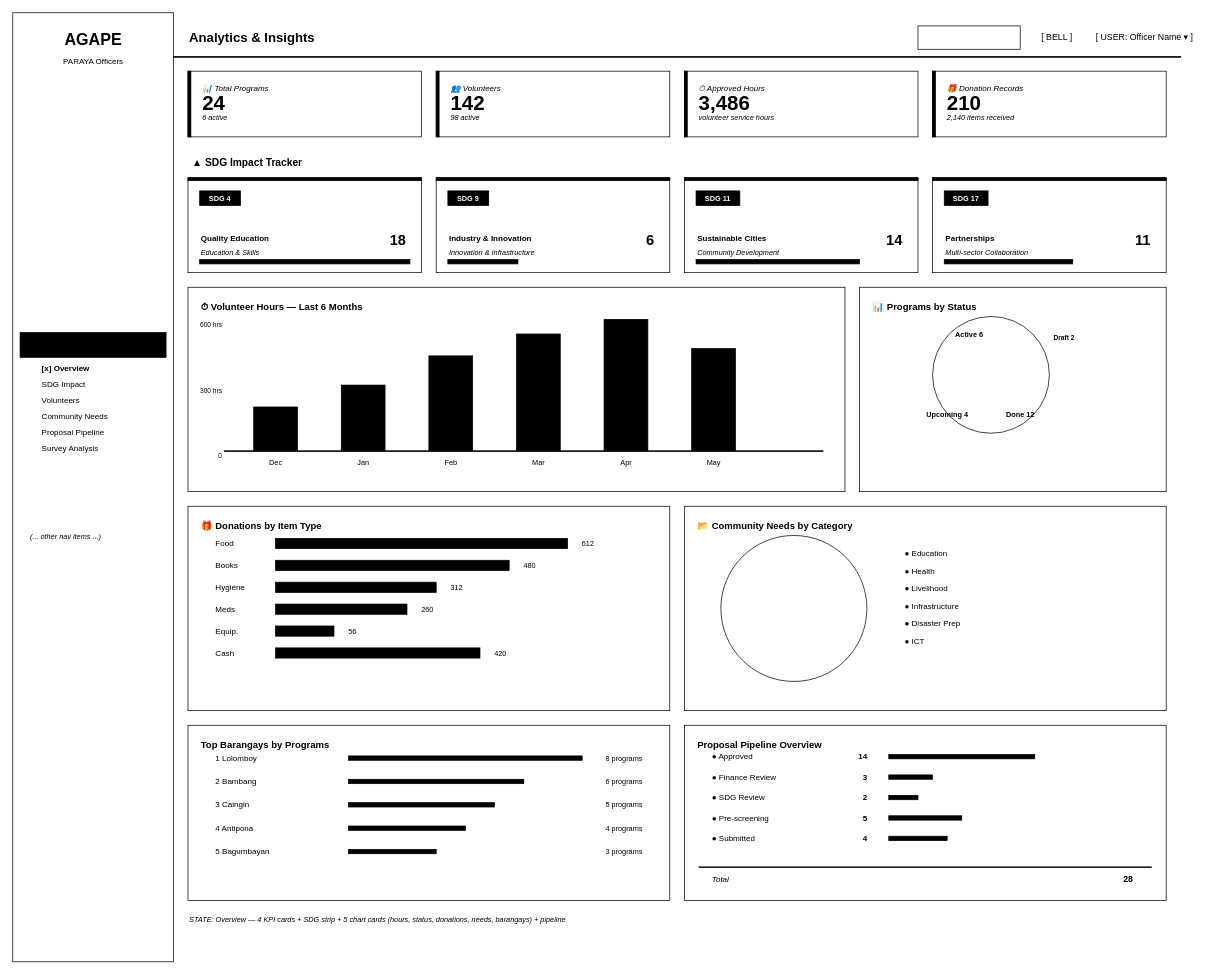
Image size: 1223x975. Some labels were removed from this diagram. The shapes that lost their labels are listed below. From the top down, each one's centre as x and y in pixels, then its label:
(x=968, y=37): [ ⚙ Filters (0) ]
(x=92, y=344): [x] Analytics
